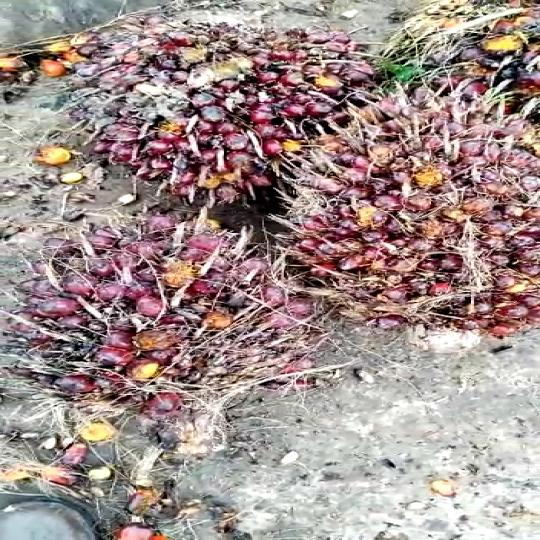masak: (2, 200, 320, 458), (261, 78, 540, 363), (69, 19, 384, 210)
